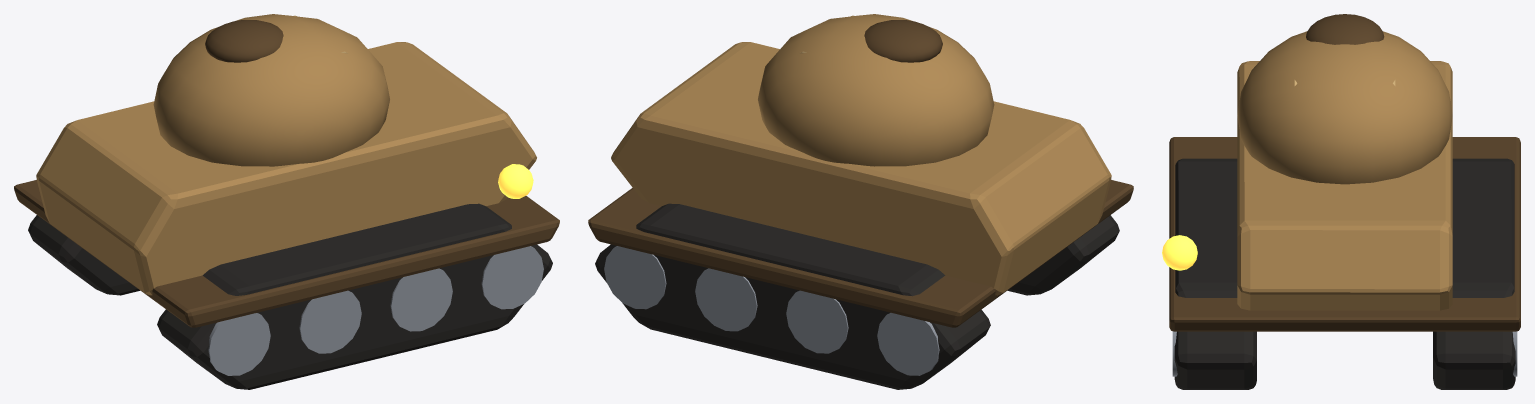
Rendered from tank_l.glb.
3 views of the same model, side by side, from view 1: azimuth 30°, elevation 25°; view 2: azimuth 150°, elevation 25°; view 3: azimuth 270°, elevation 25° (orthographic).
Parts seen in each view (by area): view 1: hull, turret, track, skirt, wheel, wheel.002, wheel.003, wheel.001, track.001, hatch, lamp; view 2: hull, turret, track.001, skirt, wheel.004, wheel.005, wheel.006, wheel.007, track, hatch; view 3: hull, turret, skirt, track.001, track, hatch, lamp.
Part boxes in pixels (<box>): hull: <box>36,42,536,295</box>; turret: <box>153,14,389,166</box>; track: <box>157,203,552,389</box>; skirt: <box>14,180,559,327</box>; wheel: <box>208,313,270,375</box>; wheel.002: <box>390,268,452,331</box>; wheel.003: <box>481,246,543,309</box>; wheel.001: <box>299,290,361,353</box>; track.001: <box>28,215,139,295</box>; hatch: <box>205,20,283,62</box>; lamp: <box>498,164,533,198</box>; hull: <box>611,42,1111,295</box>; turret: <box>758,14,994,166</box>; track.001: <box>595,203,990,389</box>; skirt: <box>588,180,1133,327</box>; wheel.004: <box>877,313,939,375</box>; wheel.005: <box>786,290,848,353</box>; wheel.006: <box>695,268,757,331</box>; wheel.007: <box>604,246,666,309</box>; track: <box>1007,215,1119,295</box>; hatch: <box>864,20,942,62</box>; hull: <box>1237,61,1452,310</box>; turret: <box>1237,31,1452,184</box>; skirt: <box>1169,137,1520,331</box>; track.001: <box>1433,158,1515,389</box>; track: <box>1174,158,1256,389</box>; hatch: <box>1306,14,1384,44</box>; lamp: <box>1162,235,1197,270</box>.
Bounding box in the file's own units: 12.93 × 8.7 × 10.
